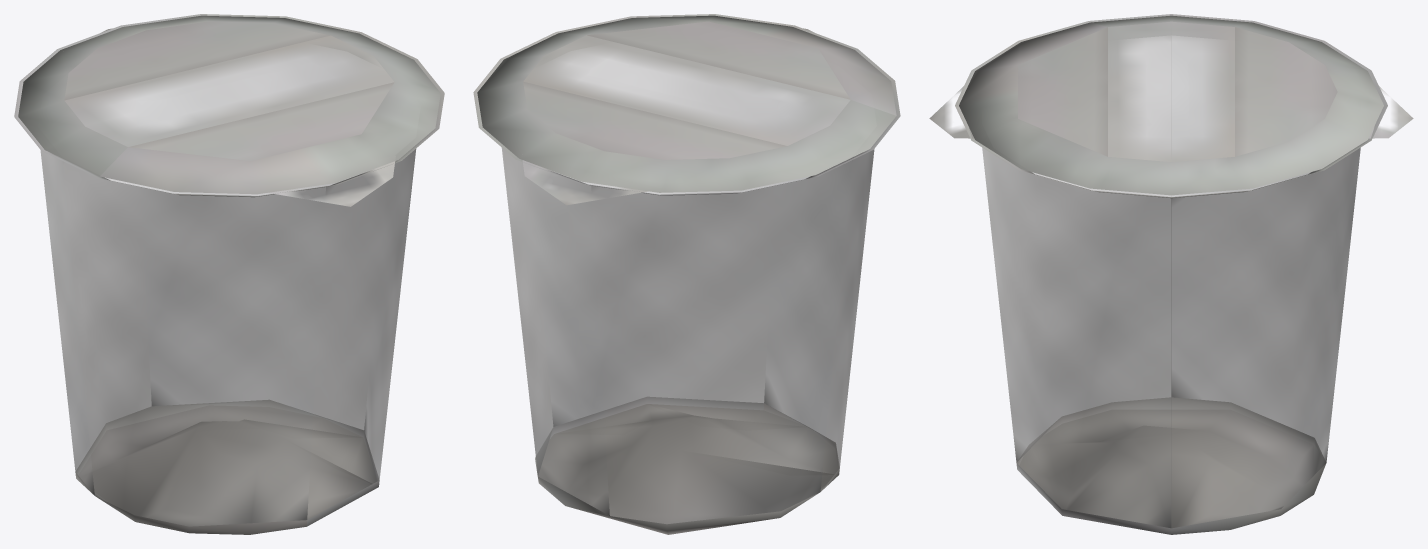
File: ss-wire-bin.lod1.glb
3 views of the same model, side by side, from view 1: azimuth 30°, elevation 25°; view 2: azimuth 150°, elevation 25°; view 3: azimuth 270°, elevation 25° (orthographic).
Visible parts, largest first — view 1: general_store_furniture_bin_body_general_store_furniture_0; view 2: general_store_furniture_bin_body_general_store_furniture_0; view 3: general_store_furniture_bin_body_general_store_furniture_0.
Boxes of the visible parts, bbox=[...] form: general_store_furniture_bin_body_general_store_furniture_0: bbox=[14, 14, 444, 534]; general_store_furniture_bin_body_general_store_furniture_0: bbox=[473, 14, 900, 534]; general_store_furniture_bin_body_general_store_furniture_0: bbox=[929, 14, 1413, 534].
Bounding box in the file's own units: 0.9027 × 0.8885 × 1.01.
Materials: 1 (1 with a texture image).
